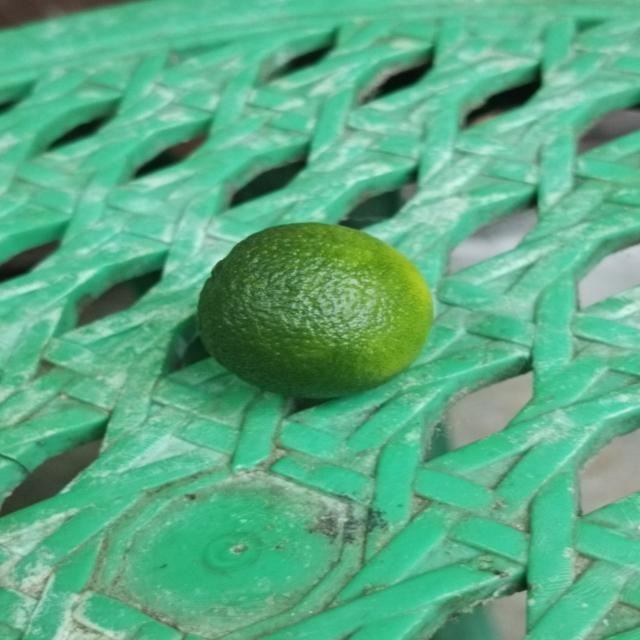heathy: (188, 222, 438, 400)
